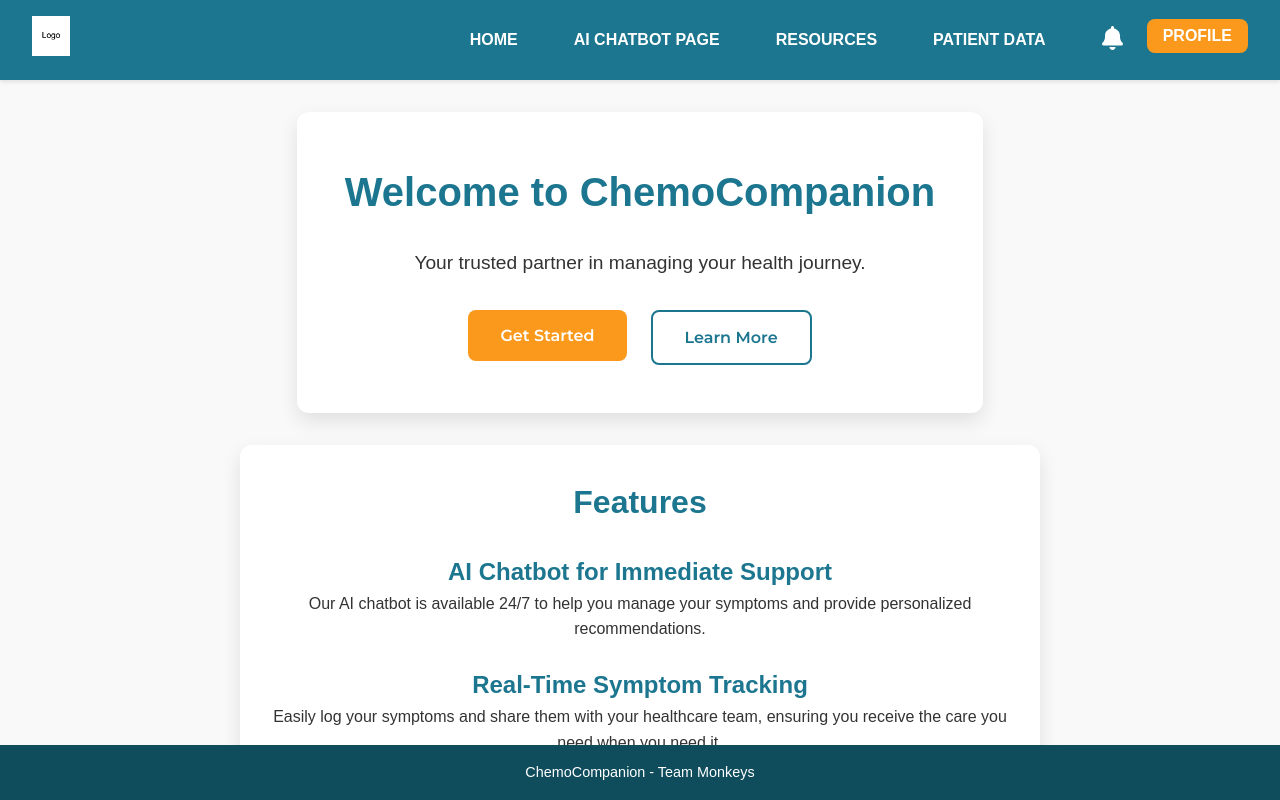
Navbar Navigation › should show the profile dropdown when the profile button is clicked
Click the button "Profile" at (1198, 36), box x1=1147 y1=19 x2=1248 y2=53
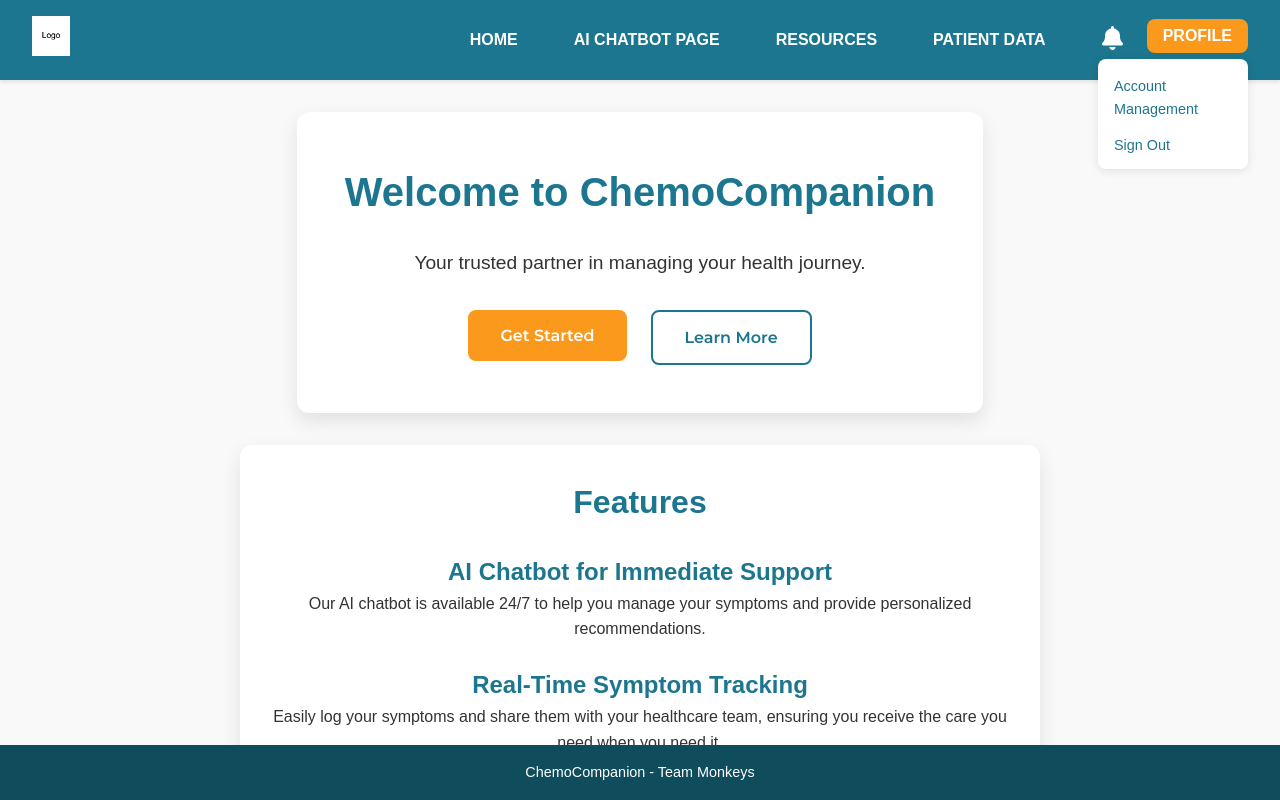
Expected: the element showing "Account Management Sign Out" is shown, x1=1098 y1=59 x2=1248 y2=169
